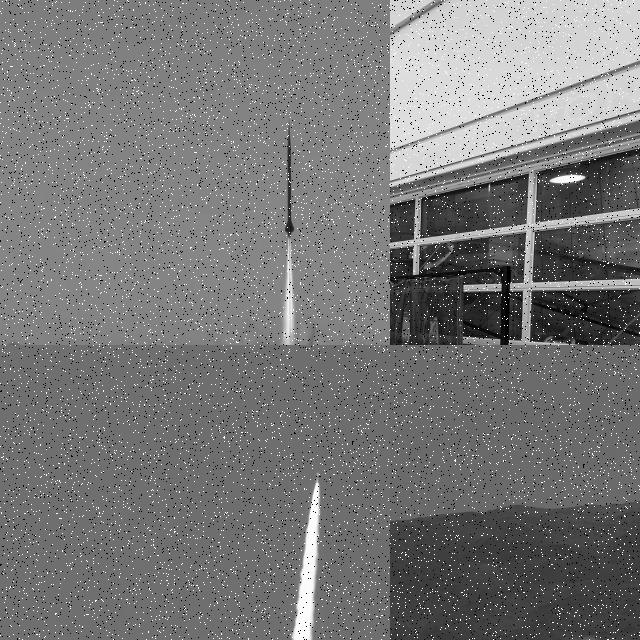Rocket: (284, 119, 294, 238), (316, 472, 320, 485)
